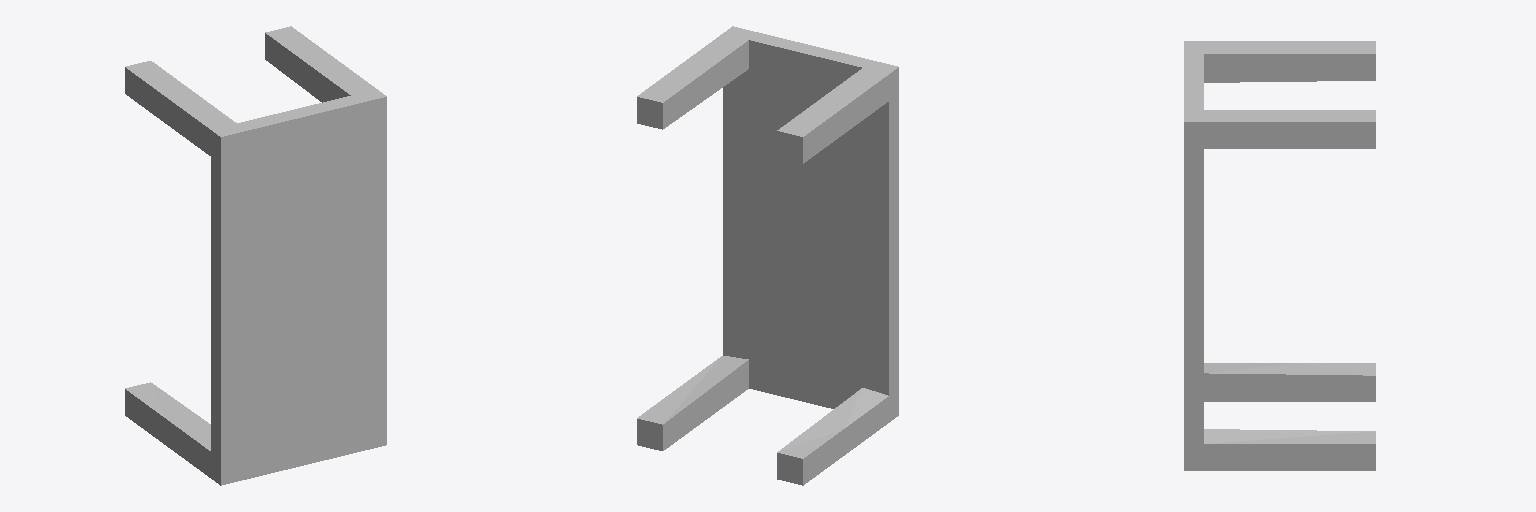
The model's file is table.obj.
The picture shows the model from 3 angles: view 1: azimuth 30°, elevation 25°; view 2: azimuth 150°, elevation 25°; view 3: azimuth 270°, elevation 25°; orthographic projection.
Parts seen in each view (by area): view 1: Cube; view 2: Cube; view 3: Cube.
Part boxes in pixels (left/top/right/bottom): Cube: left=125, top=26, right=386, bottom=485; Cube: left=637, top=26, right=898, bottom=485; Cube: left=1184, top=41, right=1375, bottom=470.
Size of the model in its own units: 2 by 4 by 2.